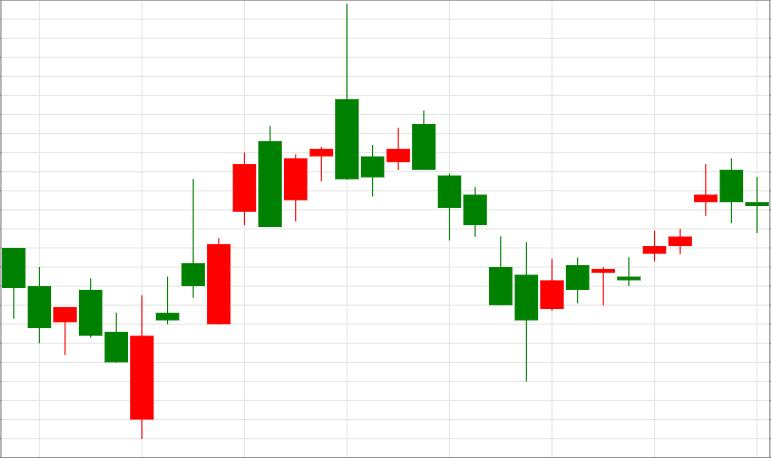bearish_engulfing_fall: (131, 126, 282, 439), (591, 157, 743, 306)
